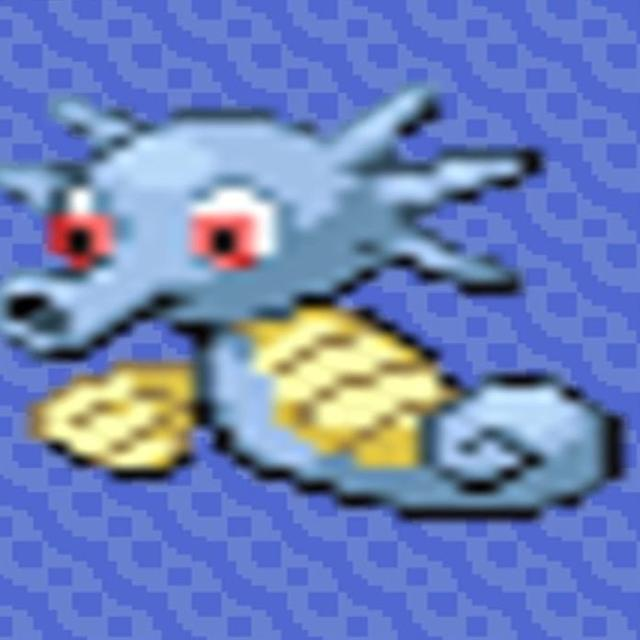Horsea: (0, 92, 603, 541)
